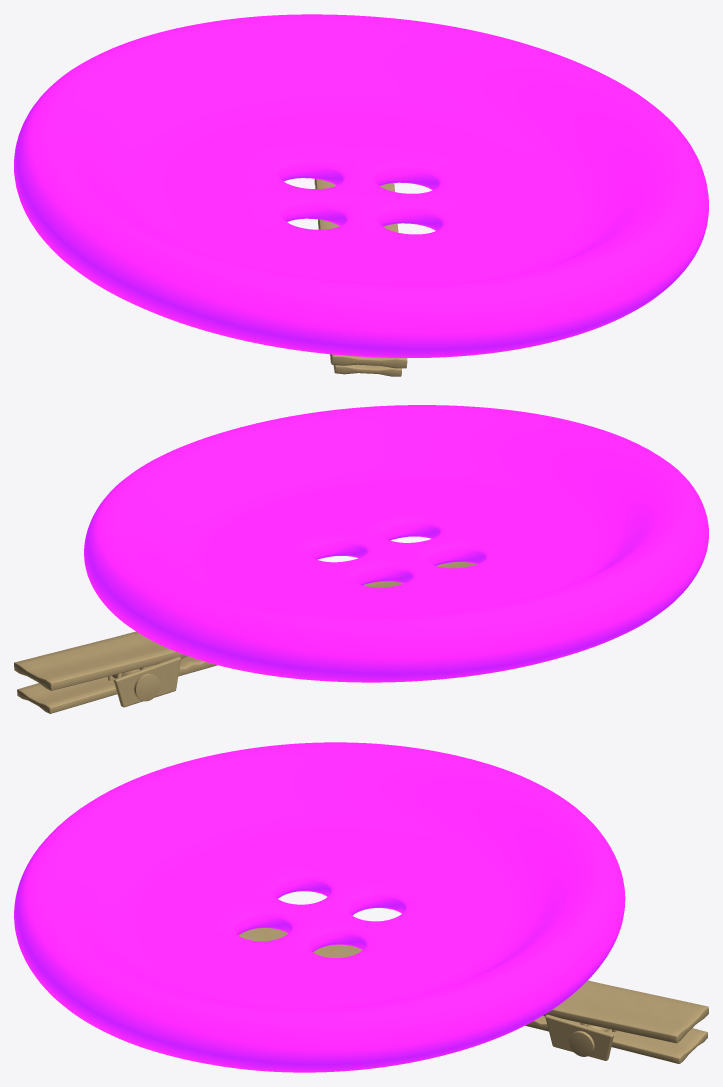
The model's file is HairClip_Emissive.glb.
3 views of the same model, one above another, from view 1: azimuth 30°, elevation 25°; view 2: azimuth 150°, elevation 25°; view 3: azimuth 270°, elevation 25° (orthographic). The views are drawn at different scales.
Parts seen in each view (by area): view 1: HairClip_Emissive__Pink_Four_Hole_Button, HairClip_Emissive__Fixed_Serrated_Jaw, HairClip_Emissive__Moving_Jaw_Static_Pose; view 2: HairClip_Emissive__Pink_Four_Hole_Button, HairClip_Emissive__Fixed_Serrated_Jaw, HairClip_Emissive__Moving_Jaw_Static_Pose, HairClip_Emissive__Pivot_Cheek_L, HairClip_Emissive__Pivot_Head_L; view 3: HairClip_Emissive__Pink_Four_Hole_Button, HairClip_Emissive__Fixed_Serrated_Jaw, HairClip_Emissive__Moving_Jaw_Static_Pose, HairClip_Emissive__Pivot_Cheek_R, HairClip_Emissive__Pivot_Head_R.
Part boxes in pixels (x1,y1,x2,y2): HairClip_Emissive__Pink_Four_Hole_Button: (14,14,708,357); HairClip_Emissive__Fixed_Serrated_Jaw: (314,179,407,368); HairClip_Emissive__Moving_Jaw_Static_Pose: (333,364,401,376); HairClip_Emissive__Pink_Four_Hole_Button: (84,405,708,682); HairClip_Emissive__Fixed_Serrated_Jaw: (14,562,476,690); HairClip_Emissive__Moving_Jaw_Static_Pose: (17,656,217,713); HairClip_Emissive__Pivot_Cheek_L: (113,656,180,707); HairClip_Emissive__Pivot_Head_L: (134,673,159,701); HairClip_Emissive__Pink_Four_Hole_Button: (14,742,625,1072); HairClip_Emissive__Fixed_Serrated_Jaw: (238,928,708,1043); HairClip_Emissive__Moving_Jaw_Static_Pose: (525,1016,707,1063); HairClip_Emissive__Pivot_Cheek_R: (545,1014,613,1060); HairClip_Emissive__Pivot_Head_R: (569,1031,594,1056).
Size of the model in its own units: 39.83 by 8.57 by 45.34.
Materials: 2 (2 with a texture image).
